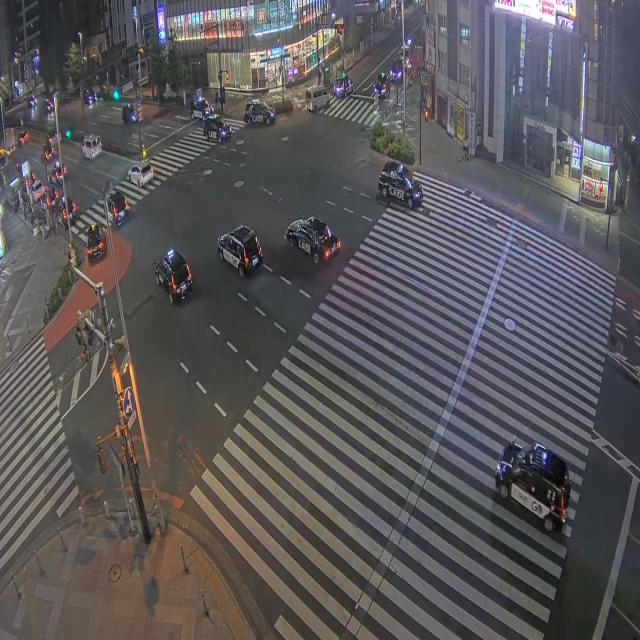car: (495, 439, 570, 532), (285, 217, 340, 263), (218, 226, 262, 276), (155, 249, 192, 304), (379, 161, 422, 208), (244, 99, 275, 125), (107, 191, 129, 226), (203, 115, 231, 142), (86, 224, 104, 261), (128, 162, 153, 187), (334, 73, 354, 97), (57, 198, 75, 223), (190, 99, 211, 120), (49, 161, 66, 184), (374, 73, 389, 98), (398, 45, 411, 70), (47, 184, 60, 208), (122, 104, 137, 124), (390, 59, 403, 80), (33, 181, 46, 201), (83, 89, 97, 105), (43, 144, 53, 162), (19, 130, 29, 146), (44, 100, 54, 112), (27, 96, 36, 108), (41, 92, 50, 103)
van: (306, 86, 329, 111), (82, 135, 102, 159)
